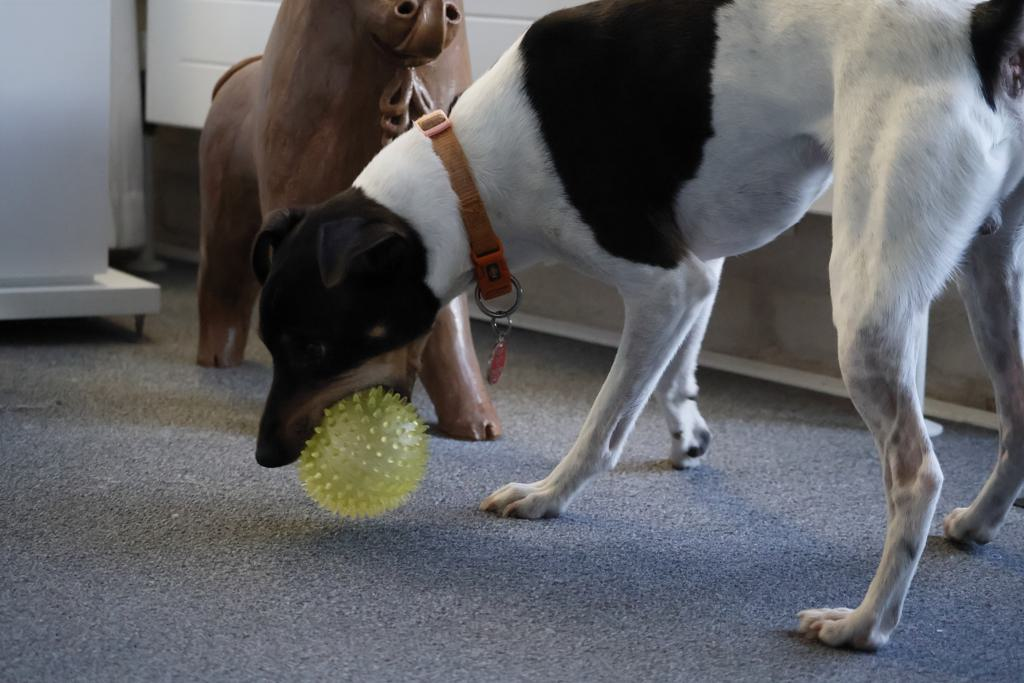Cattle: (176, 0, 521, 451)
Dog: (237, 0, 1024, 660)
